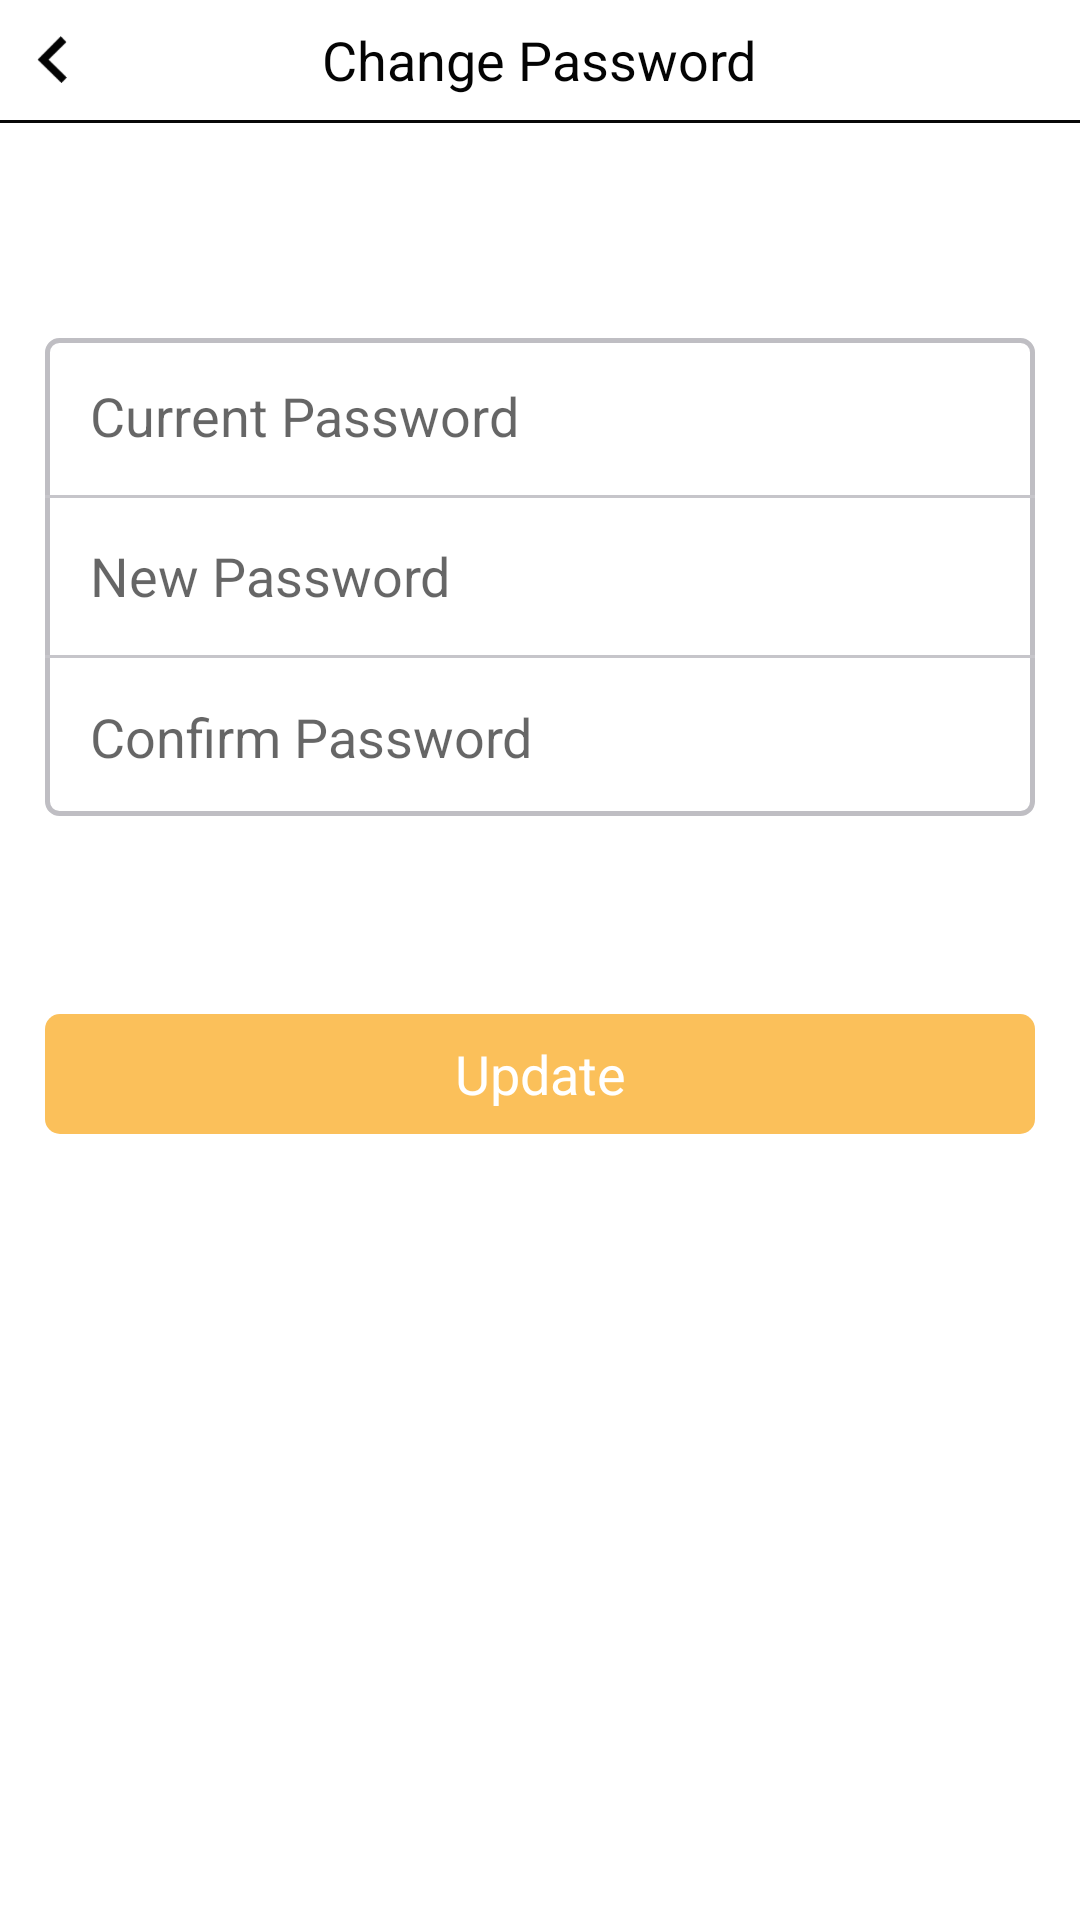

Named icons in this screenshot (1080 x 1920) and their centers, point (x, y):
back arrow: point (52, 59)
